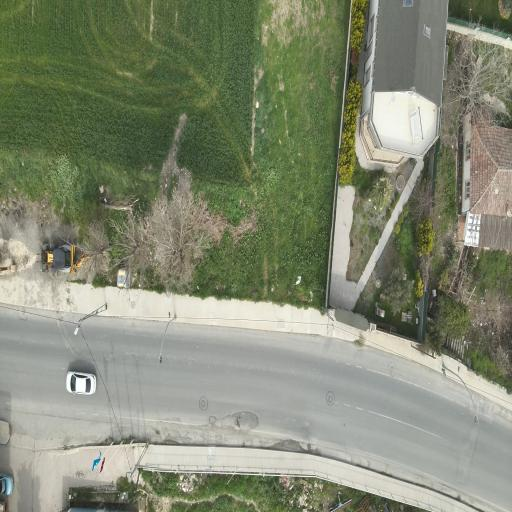car: (42, 243, 90, 273), (66, 372, 95, 394), (0, 474, 12, 495)
